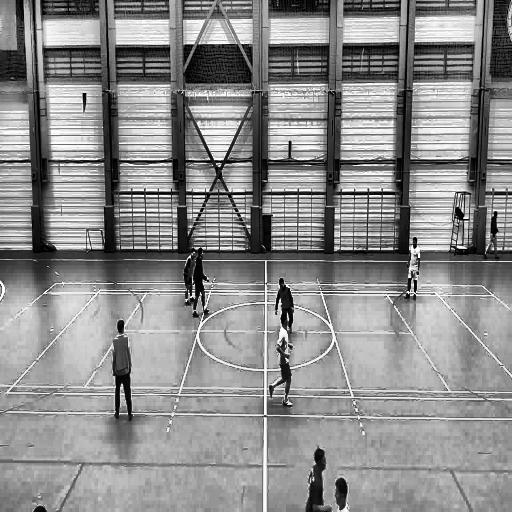player: (111, 318, 135, 426), (269, 312, 294, 410), (302, 445, 331, 512), (193, 248, 210, 318), (404, 236, 422, 302), (482, 210, 501, 262), (274, 274, 294, 312), (183, 248, 192, 308), (334, 477, 349, 512)
